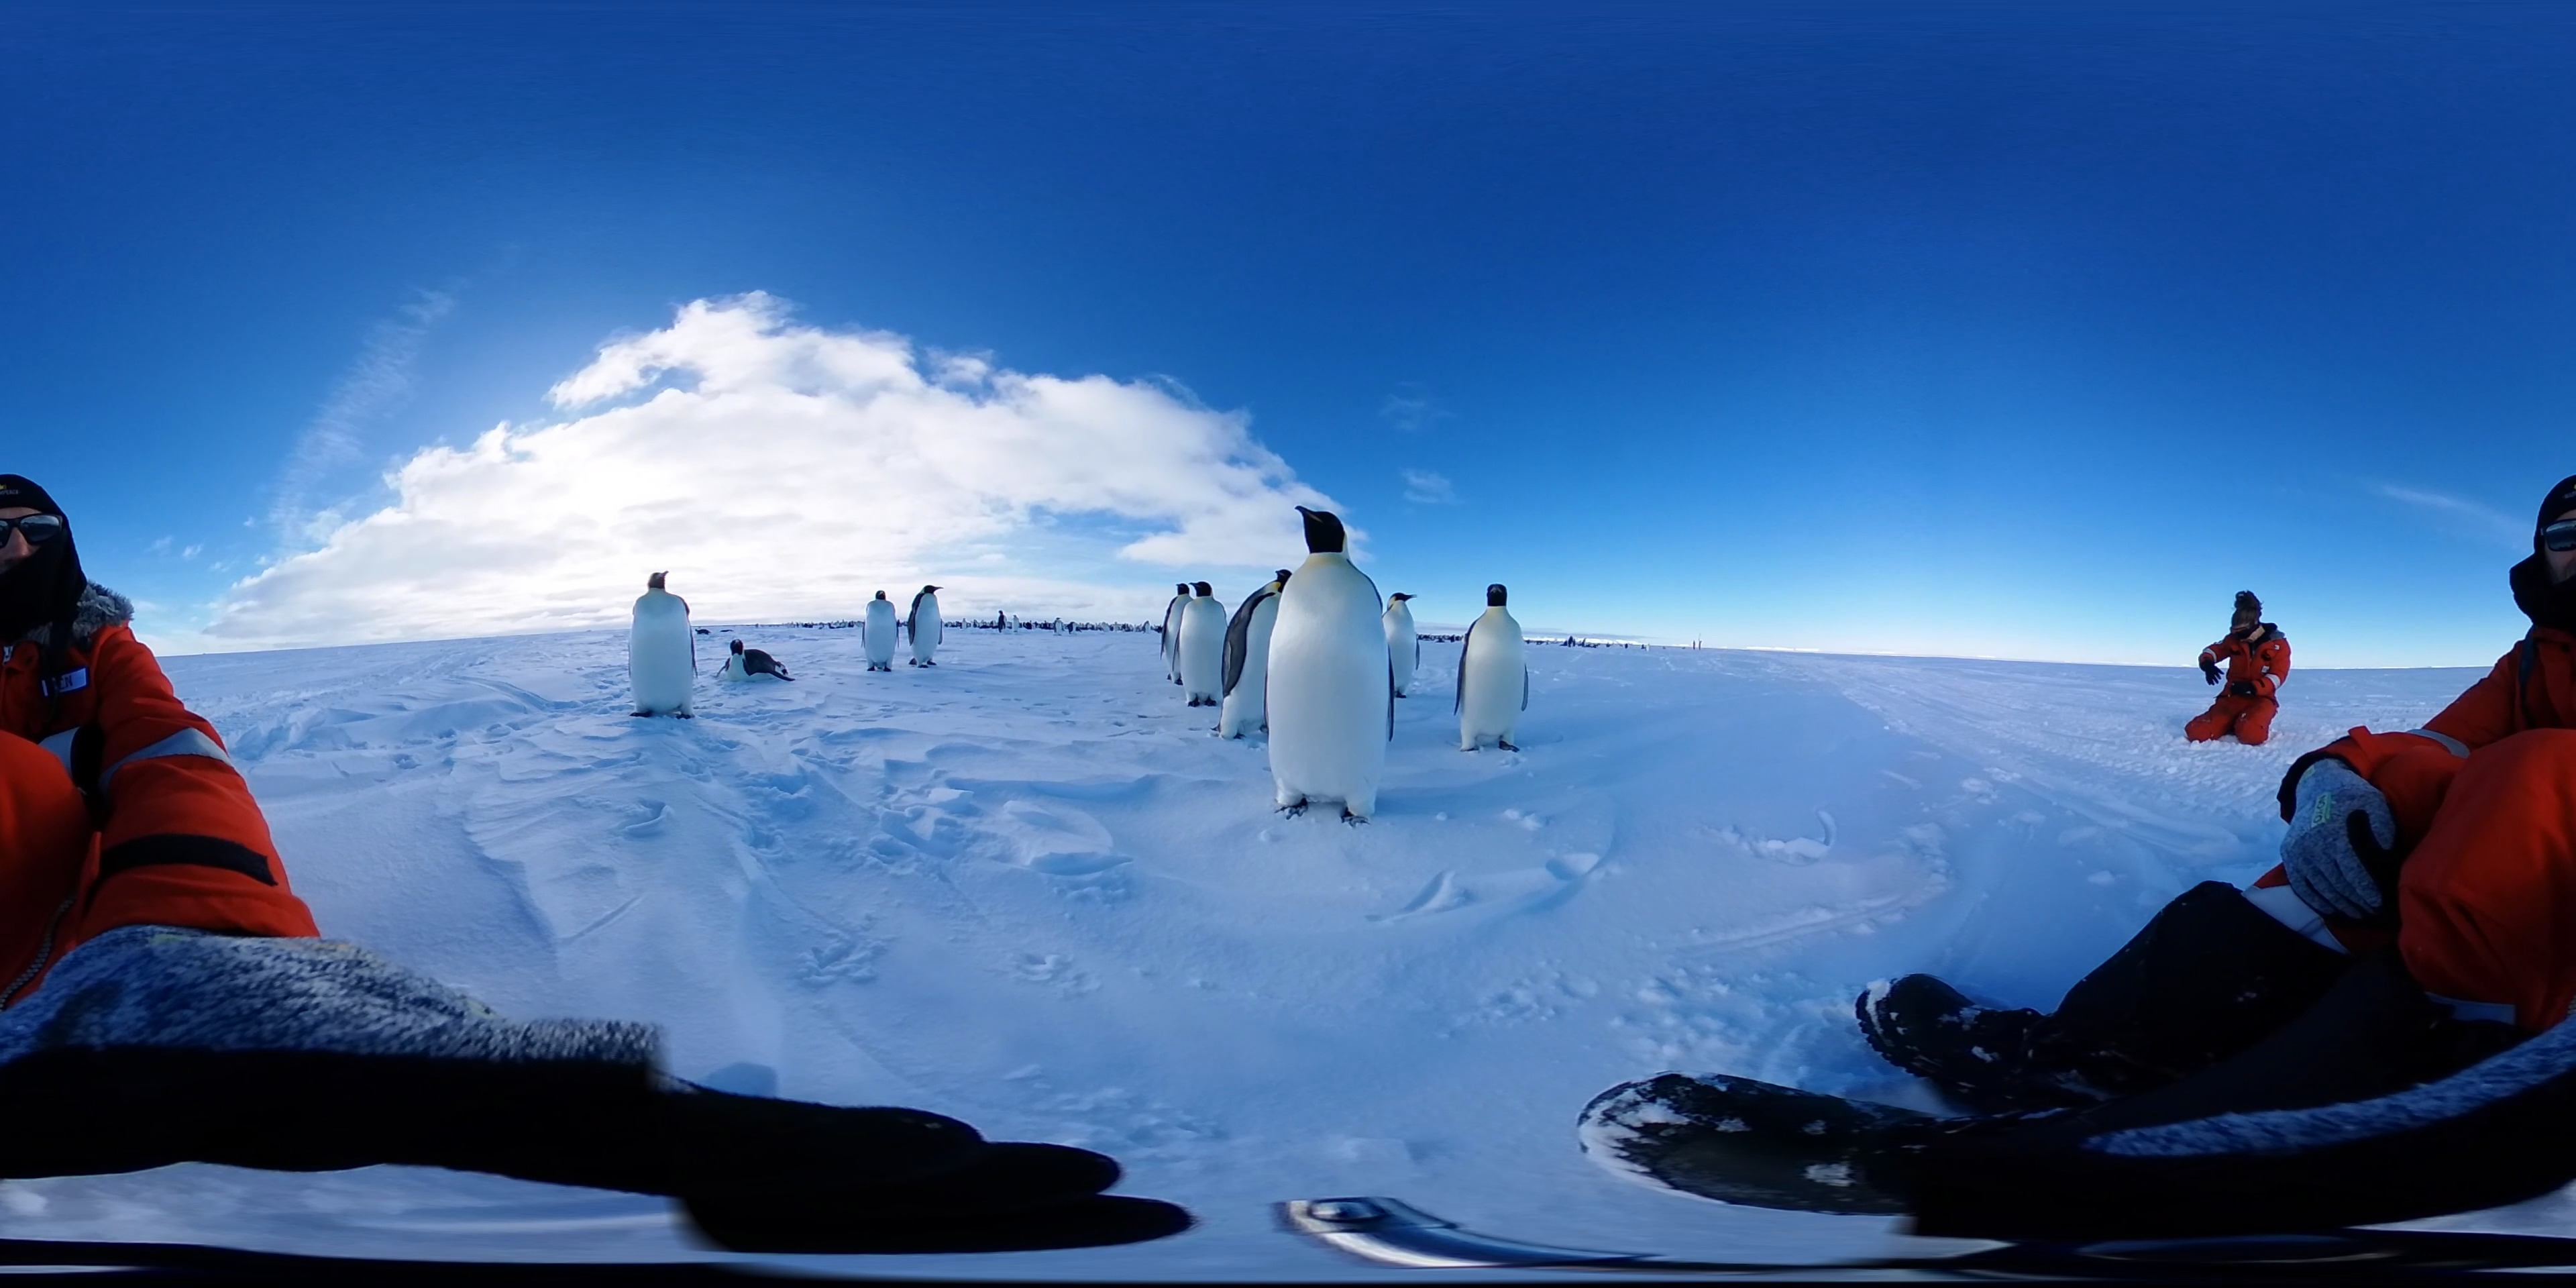adult_standing_penguin: (1267, 501, 1395, 823), (1214, 577, 1306, 747), (1447, 580, 1526, 757), (623, 570, 701, 724), (1173, 578, 1237, 708), (1380, 588, 1428, 701), (1157, 578, 1194, 687), (904, 582, 950, 670), (858, 588, 900, 677)
adult_toboggan_penguin: (710, 637, 802, 685), (693, 623, 711, 641)
researcher: (2052, 455, 2576, 999), (0, 465, 329, 1028), (2187, 586, 2295, 749)
